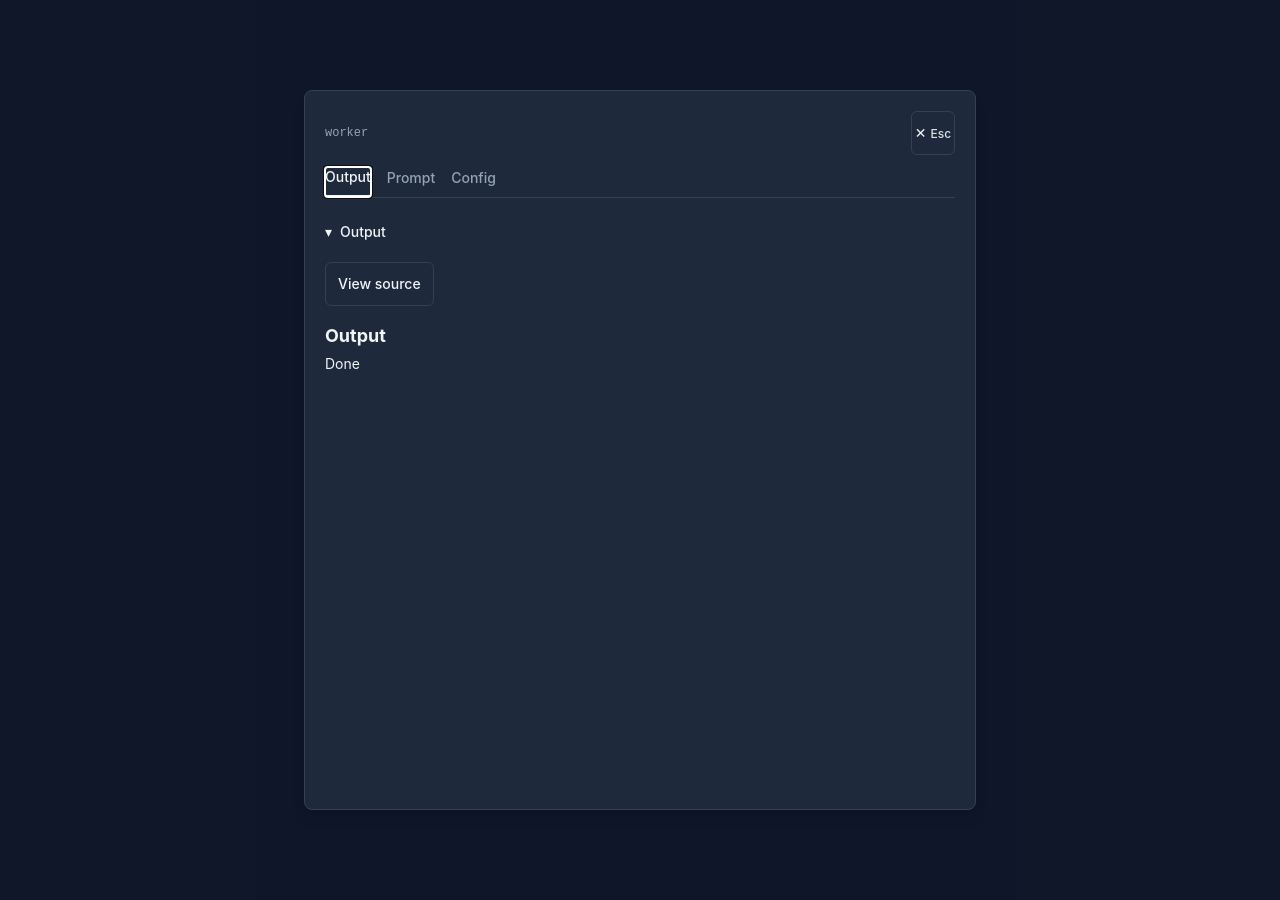
Test: NodeDetailModal accessibility › describes the close control on hover
Hover over the button with test id "node-detail-close" at (933,133), box [911, 111, 955, 155]
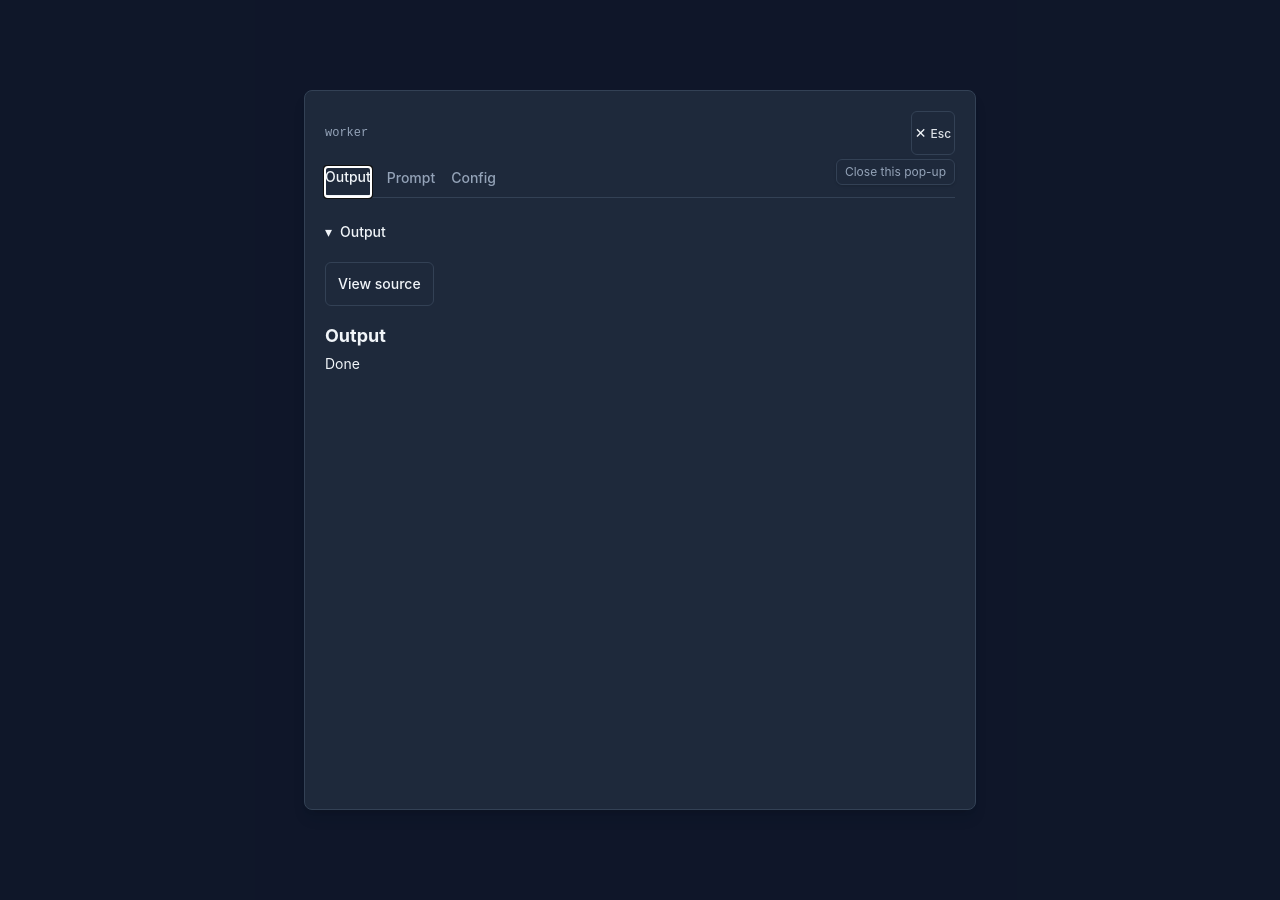
Expected: the tooltip "Close this pop-up" is shown, [836, 159, 955, 185]
